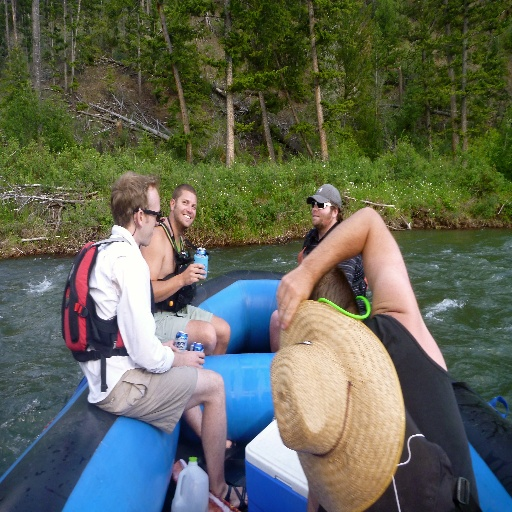hand: (275, 264, 318, 331), (181, 262, 209, 288), (179, 345, 205, 369), (159, 337, 182, 351)
